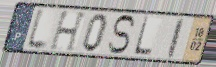0: (81, 12, 109, 54)
H: (48, 10, 89, 53)
I: (166, 17, 186, 60)
L: (24, 6, 50, 53), (131, 16, 154, 57)
S: (106, 13, 137, 55)
